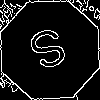S: (25, 25, 75, 81)
